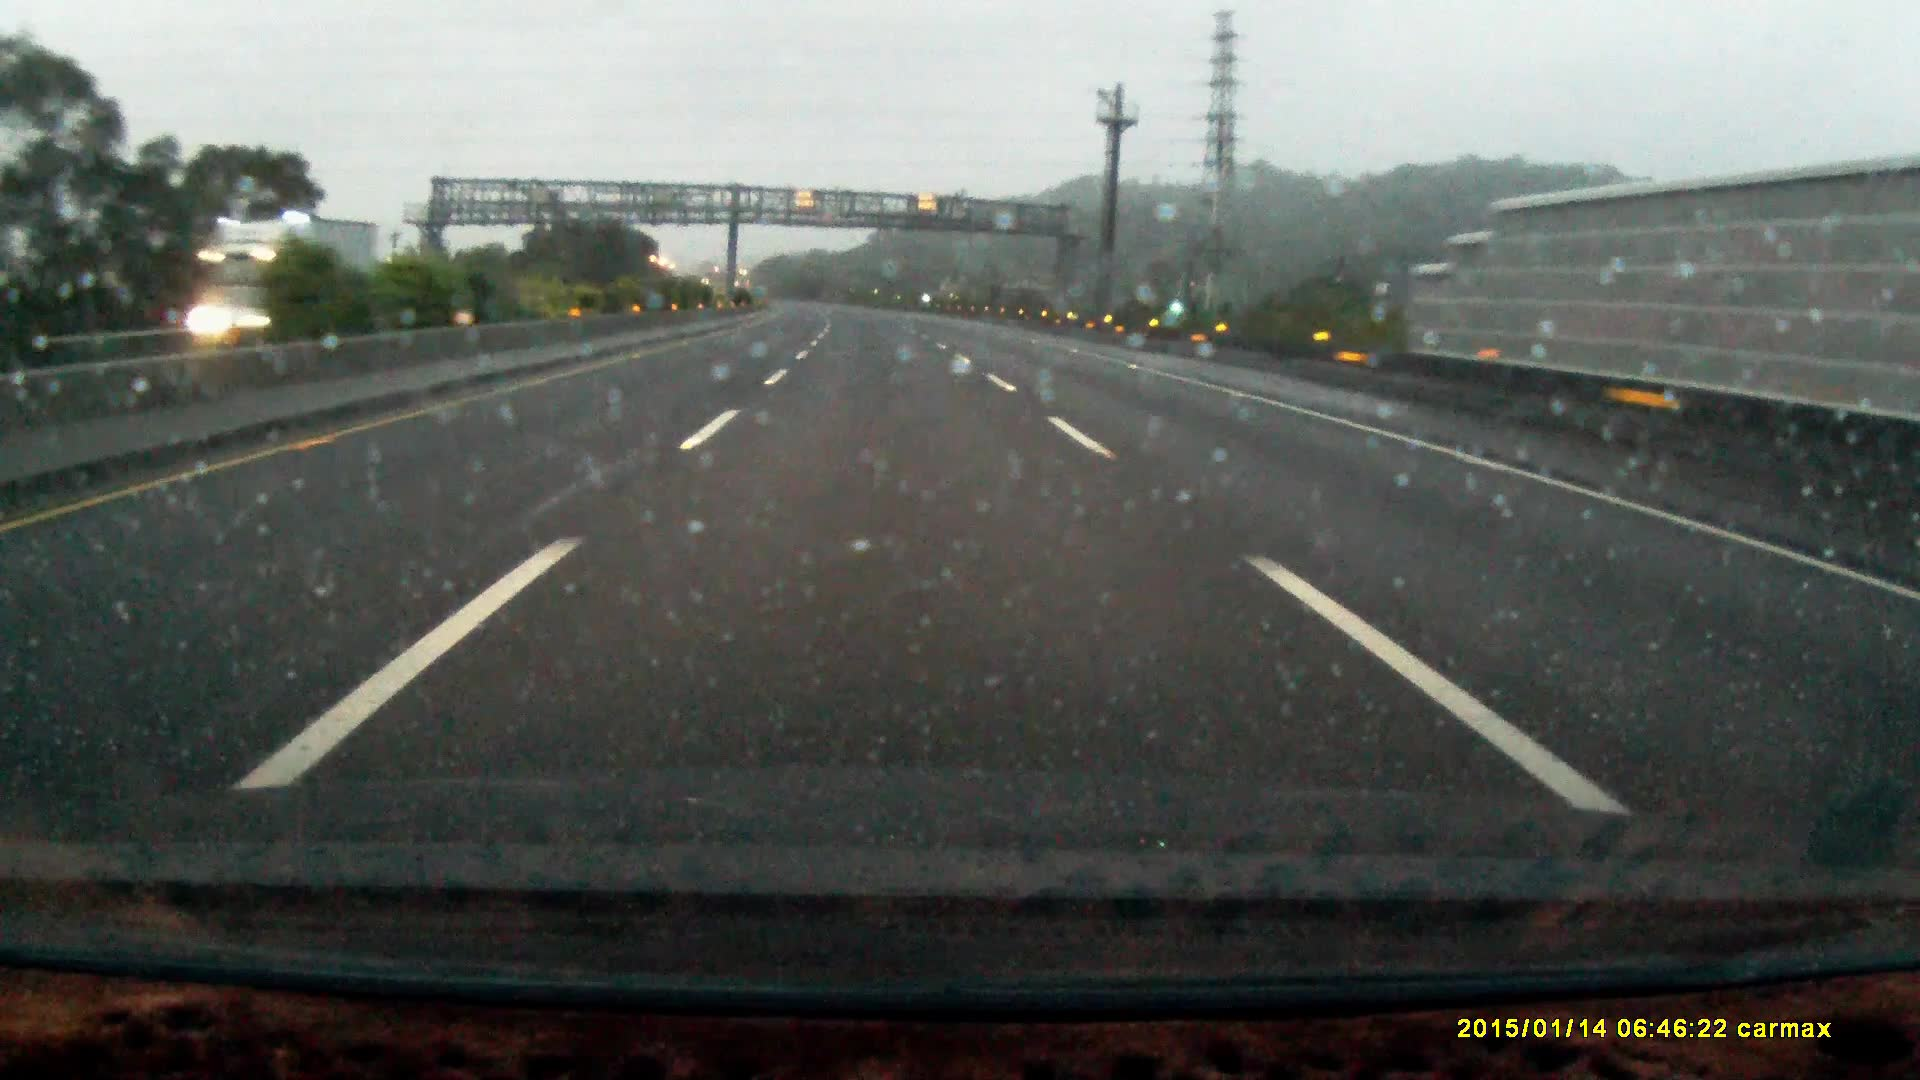vehicle: (189, 220, 373, 330), (199, 286, 293, 345)
